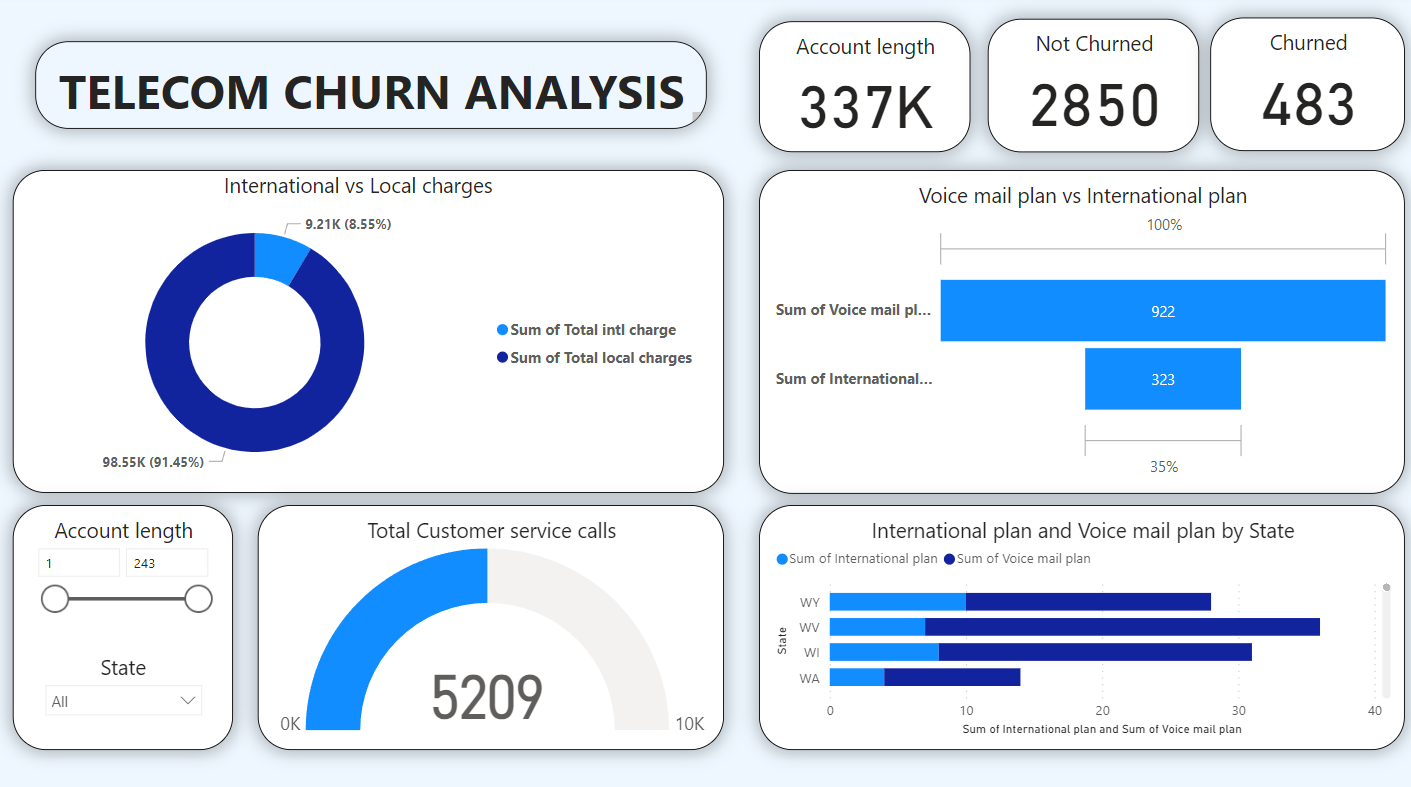

This screenshot's page, from the dashboard's own definition file:
{"tool":"powerbi","page":{"name":"Data chart","canvas":[1280,720],"ordinal":0},"visuals":[{"type":"card","title":"Account length","fields":{"Values":["Sum(Churn.Account length)"]},"box":[676.6,21.1,191.1,119.6],"z":0},{"type":"card","title":"Not Churned","fields":{"Values":["Sum(Churn.Not Churned)"]},"box":[883,21.1,191.1,120.8],"z":1000},{"type":"card","title":"Churned","fields":{"Values":["Sum(Churn.Churn)"]},"box":[1084.7,21.1,177.1,120.8],"z":2000},{"type":"textbox","title":"TELECOM CHURN ANALYSIS","box":[29.4,43,607,79.1],"z":3000},{"type":"donutChart","title":"International  vs Local charges","fields":{"Y":["Sum(Churn.Total intl charge)","Sum(Churn.Total local charges)"]},"box":[11.7,172.4,642.6,292],"z":4000},{"type":"funnel","title":"Voice mail plan vs  International plan","fields":{"Y":["Sum(Churn.Voice mail plan)","Sum(Churn.International plan)"]},"box":[676.6,172.4,585.1,293.1],"z":5000},{"type":"slicer","title":"Account length","fields":{"Values":["Churn.Account length"]},"box":[11.7,498.4,198.2,221.6],"z":6000},{"type":"slicer","title":"State","fields":{"Values":["Churn.State"]},"box":[30.5,634.4,161.8,70.4],"z":7000},{"type":"gauge","title":"Total Customer service calls","fields":{"Y":["Sum(Churn.Customer service calls)"]},"box":[233.3,498.4,421,221.6],"z":8000},{"type":"barChart","title":"International plan and Voice mail plan by State","fields":{"Category":["Churn.State"],"Y":["Sum(Churn.International plan)","Sum(Churn.Voice mail plan)"]},"box":[676.6,498.4,585.1,221.6],"z":9000}]}

Visuals, with their boxes in screenshot pixels (x1, y1, x2, y2), scaled from the page's 1280x720 canvas onto the 1411x787 screenshot:
"Account length" card: left=746, top=23, right=957, bottom=154
"Not Churned" card: left=973, top=23, right=1184, bottom=155
"Churned" card: left=1196, top=23, right=1391, bottom=155
"TELECOM CHURN ANALYSIS" textbox: left=32, top=47, right=702, bottom=133
"International  vs Local charges" donutChart: left=13, top=188, right=721, bottom=508
"Voice mail plan vs  International plan" funnel: left=746, top=188, right=1391, bottom=509
"Account length" slicer: left=13, top=545, right=231, bottom=786
"State" slicer: left=34, top=693, right=212, bottom=770
"Total Customer service calls" gauge: left=257, top=545, right=721, bottom=786
"International plan and Voice mail plan by State" barChart: left=746, top=545, right=1391, bottom=786
